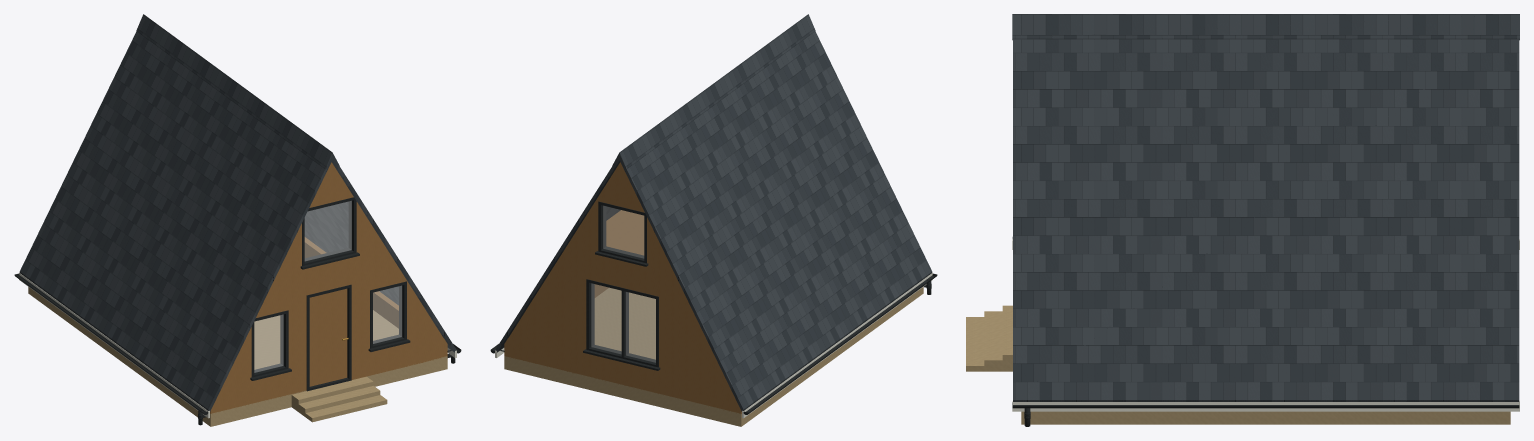
The model's file is a-frame-cabin.glb.
The picture shows the model from 3 angles, left to right: view 1: azimuth 30°, elevation 25°; view 2: azimuth 150°, elevation 25°; view 3: azimuth 270°, elevation 25°; orthographic projection. The views are drawn at different scales.
Parts seen in each view (by area): view 1: A frame roof closed pitched roof slab, A frame lower shell hollow wall shell with actual openings, A frame grounded plinth and ground floor, A frame roof finite ridge cap, A frame Entrance closed finite door leaf, A frame Loft front glazing finite glazing, A frame Ground left glazing finite glazing, A frame Ground right glazing finite glazing, A frame Entrance finite seated frame, A frame Loft front glazing finite seated frame, A frame Ground left glazing finite seated frame, A frame entrance grounded stair tread 2 (+5 smaller); view 2: A frame roof closed pitched roof slab, A frame lower shell hollow wall shell with actual openings, A frame grounded plinth and ground floor, A frame roof finite ridge cap, A frame Rear ground glazing finite glazing, A frame Rear ground glazing finite seated frame, A frame Loft rear glazing finite glazing, A frame partial upper floor slab, A frame Loft rear glazing finite seated frame, A frame low eaves -1 open finite gutter with outlet, A frame roof seated eave fascia -1; view 3: A frame roof closed pitched roof slab, A frame roof finite ridge cap, A frame grounded plinth and ground floor, A frame roof seated eave fascia 1, A frame low eaves 1 open finite gutter with outlet, A frame entrance grounded stair tread 1, A frame entrance grounded stair tread 0, A frame entrance grounded stair tread 2.
Part boxes in pixels (box(x1,y1,x2,y2)): A frame roof closed pitched roof slab: box(19, 31, 456, 411); A frame lower shell hollow wall shell with actual openings: box(210, 162, 447, 413); A frame grounded plinth and ground floor: box(28, 287, 447, 426); A frame roof finite ridge cap: box(136, 14, 339, 169); A frame Entrance closed finite door leaf: box(309, 288, 347, 386); A frame Loft front glazing finite glazing: box(305, 201, 351, 261); A frame Ground left glazing finite glazing: box(254, 315, 283, 372); A frame Ground right glazing finite glazing: box(373, 286, 401, 343); A frame Entrance finite seated frame: box(306, 284, 351, 391); A frame Loft front glazing finite seated frame: box(302, 197, 356, 265); A frame Ground left glazing finite seated frame: box(251, 310, 288, 377); A frame entrance grounded stair tread 2: box(291, 376, 373, 411); A frame roof closed pitched roof slab: box(495, 31, 932, 411); A frame lower shell hollow wall shell with actual openings: box(504, 162, 741, 413); A frame grounded plinth and ground floor: box(504, 287, 923, 426); A frame roof finite ridge cap: box(612, 14, 815, 169); A frame Rear ground glazing finite glazing: box(591, 283, 655, 362); A frame Rear ground glazing finite seated frame: box(586, 279, 658, 367); A frame Loft rear glazing finite glazing: box(603, 206, 643, 258); A frame partial upper floor slab: box(606, 210, 644, 255); A frame Loft rear glazing finite seated frame: box(598, 201, 646, 263); A frame low eaves -1 open finite gutter with outlet: box(746, 275, 937, 413); A frame roof seated eave fascia -1: box(742, 273, 932, 418); A frame roof closed pitched roof slab: box(1013, 39, 1519, 401); A frame roof finite ridge cap: box(1012, 14, 1519, 40); A frame grounded plinth and ground floor: box(1021, 411, 1510, 424); A frame roof seated eave fascia 1: box(1012, 401, 1519, 411); A frame low eaves 1 open finite gutter with outlet: box(1013, 405, 1519, 408); A frame entrance grounded stair tread 1: box(984, 311, 1003, 371); A frame entrance grounded stair tread 0: box(966, 317, 984, 371); A frame entrance grounded stair tread 2: box(1002, 305, 1012, 371).
Bounding box in the file's own units: 6.54 × 6.01 × 9.06.
7 materials, 7 textured.
